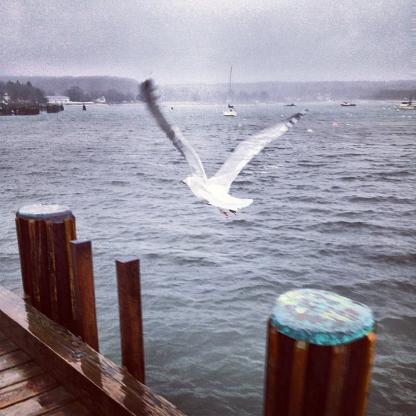Bird: (145, 78, 291, 209)
